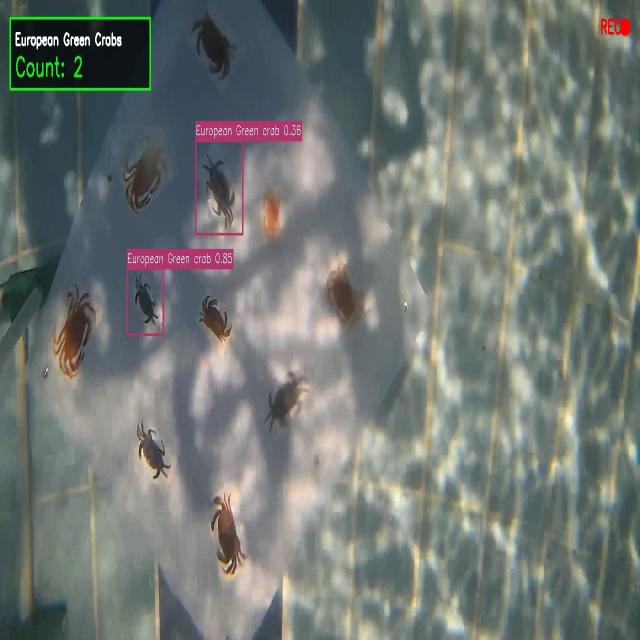European_Green_Crab: (260, 359, 317, 446), (127, 410, 178, 500), (195, 144, 241, 233), (129, 268, 166, 332)
